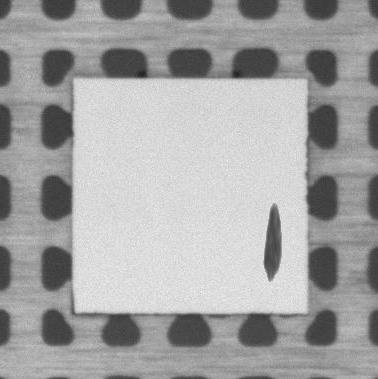DIE_INK: (263, 203, 283, 286)
